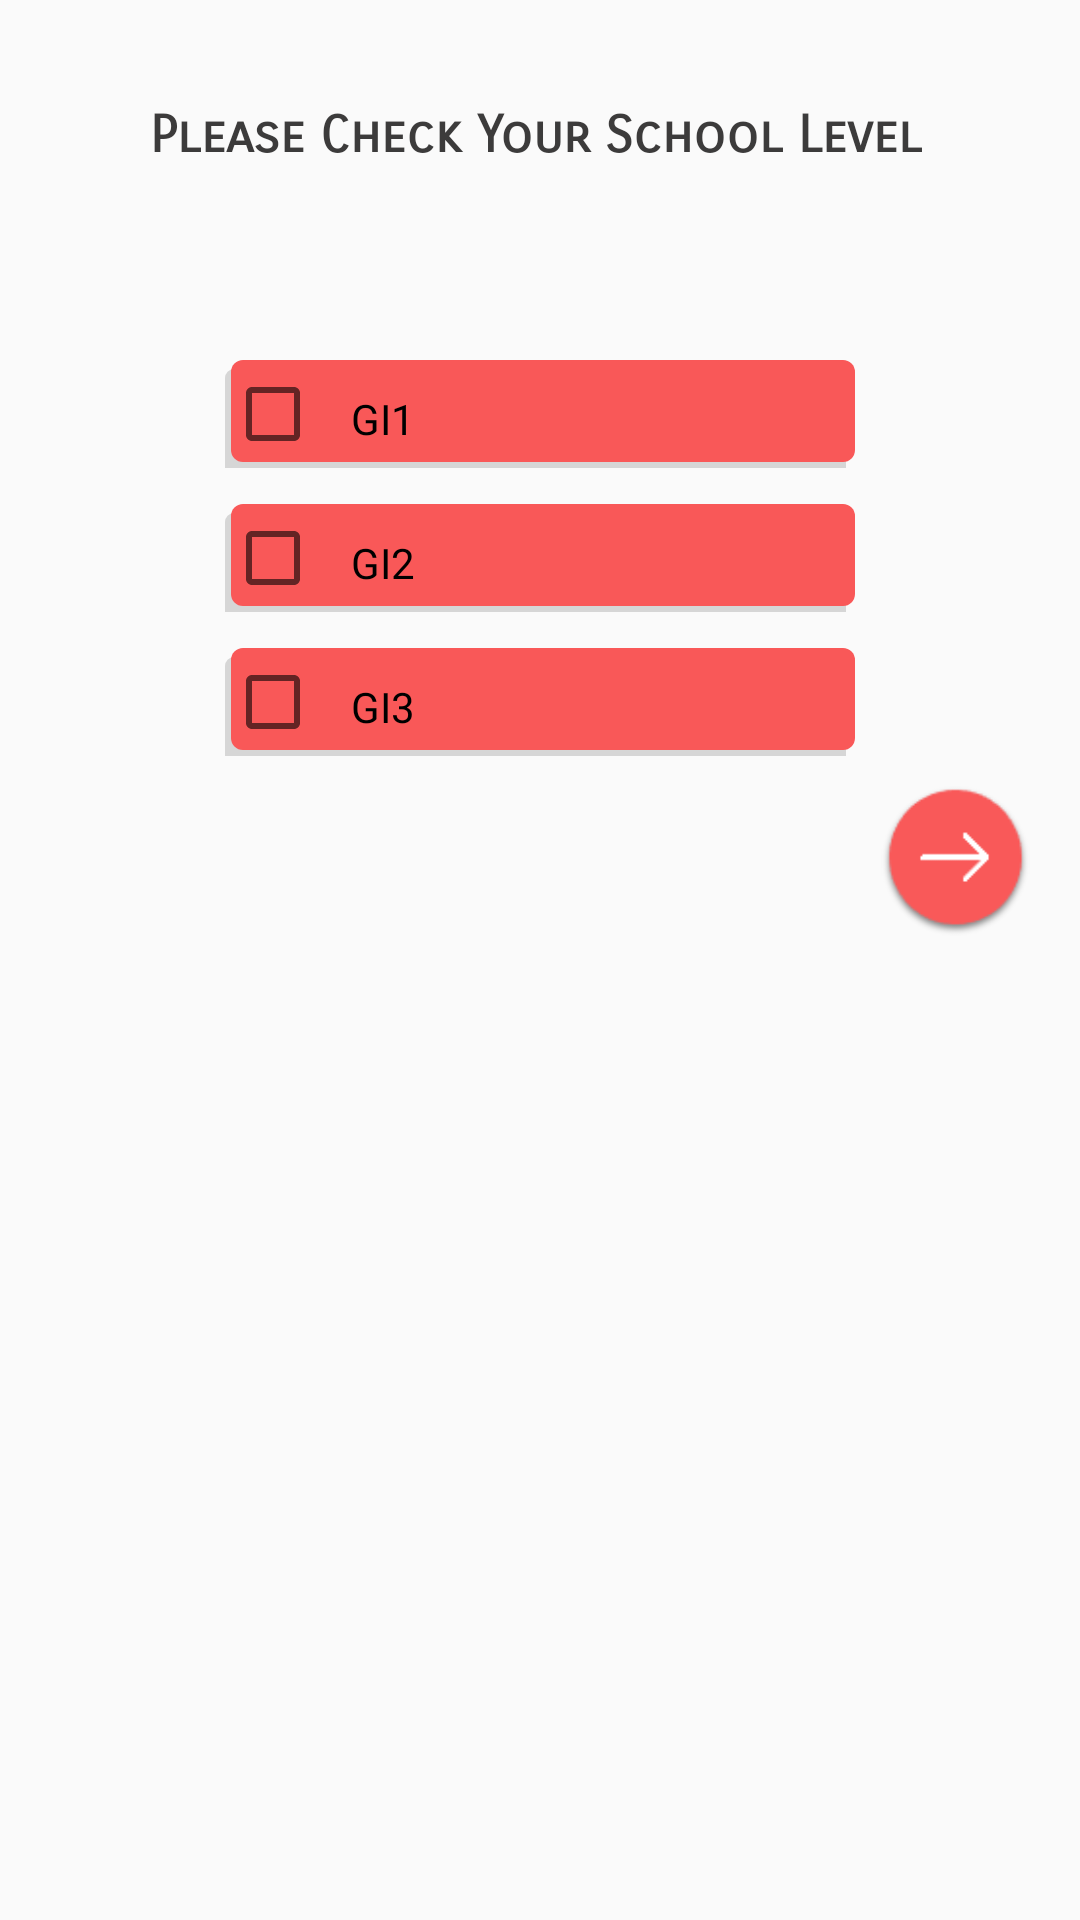

Screen size 1080px x 1920px. Icon name, then its center in pixels as (x,y):
right arrow: (955,860)
